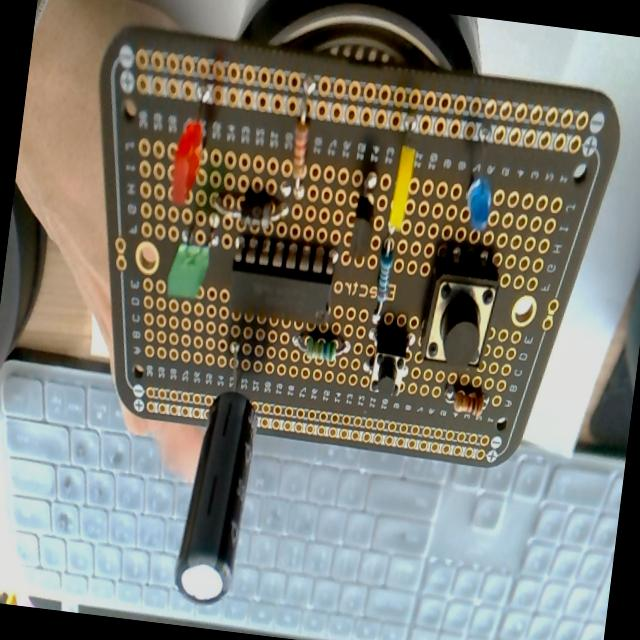Electrolytic capacitor: (173, 317, 270, 606)
IC: (223, 237, 338, 327)
diode: (210, 188, 290, 234)
led: (372, 139, 418, 319), (164, 99, 212, 216), (164, 236, 212, 302), (460, 161, 496, 236)
resistor: (282, 77, 318, 196), (368, 244, 396, 334), (291, 330, 350, 367), (443, 384, 489, 420)
switch: (418, 250, 504, 376), (365, 326, 413, 398)
